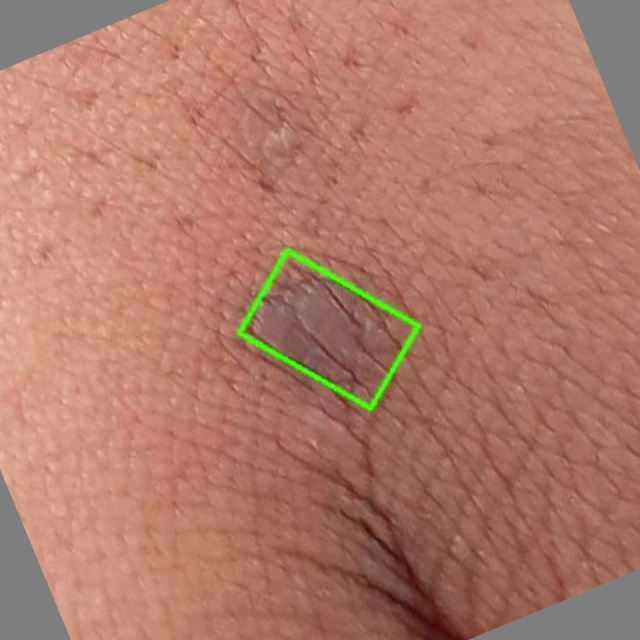Scabies: (239, 250, 418, 409)
